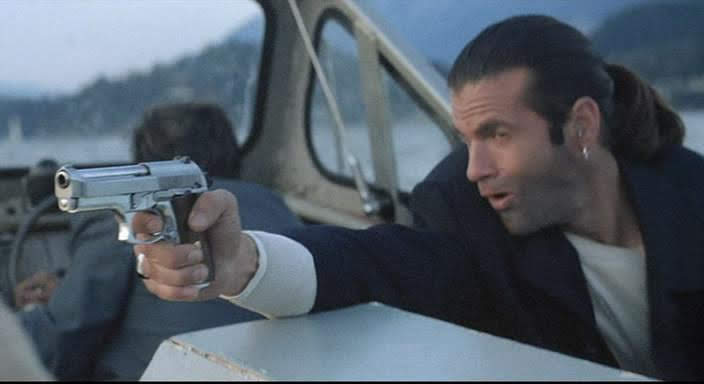gun: (21, 139, 250, 322)
